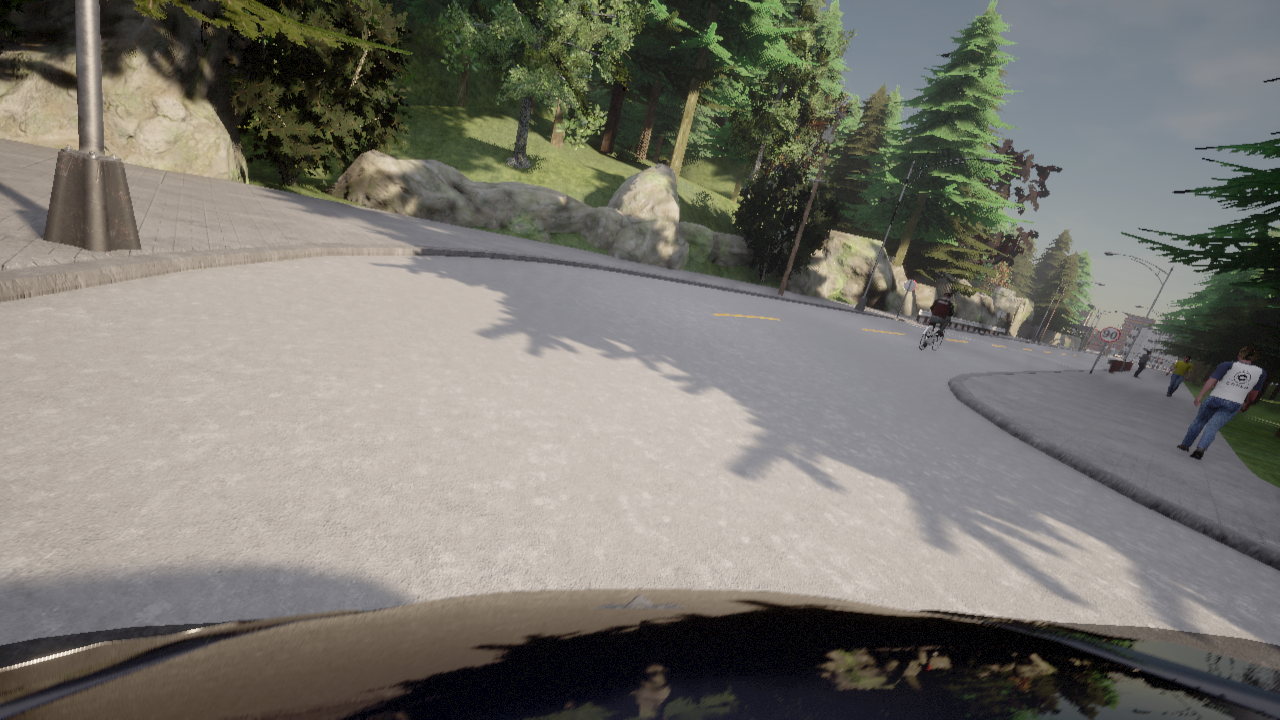cyclist: (0, 588, 1279, 719), (919, 323, 942, 350)
pedestrian: (1176, 346, 1266, 459), (1165, 356, 1192, 396)
